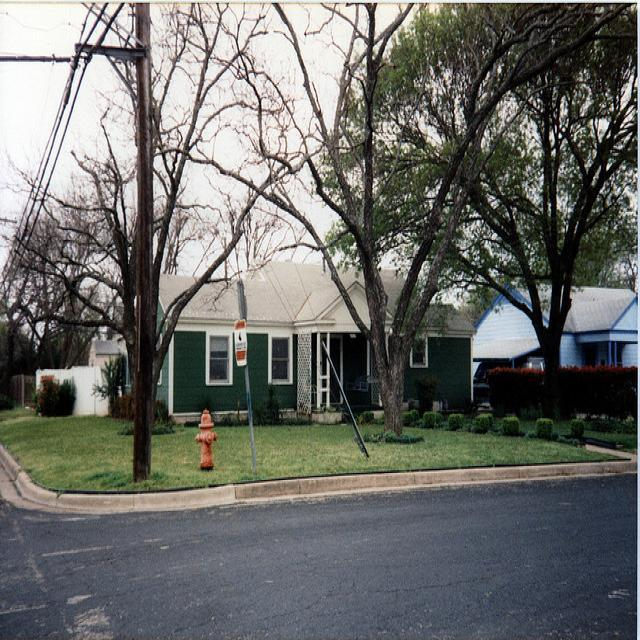fire_hydrant: (194, 407, 217, 473)
